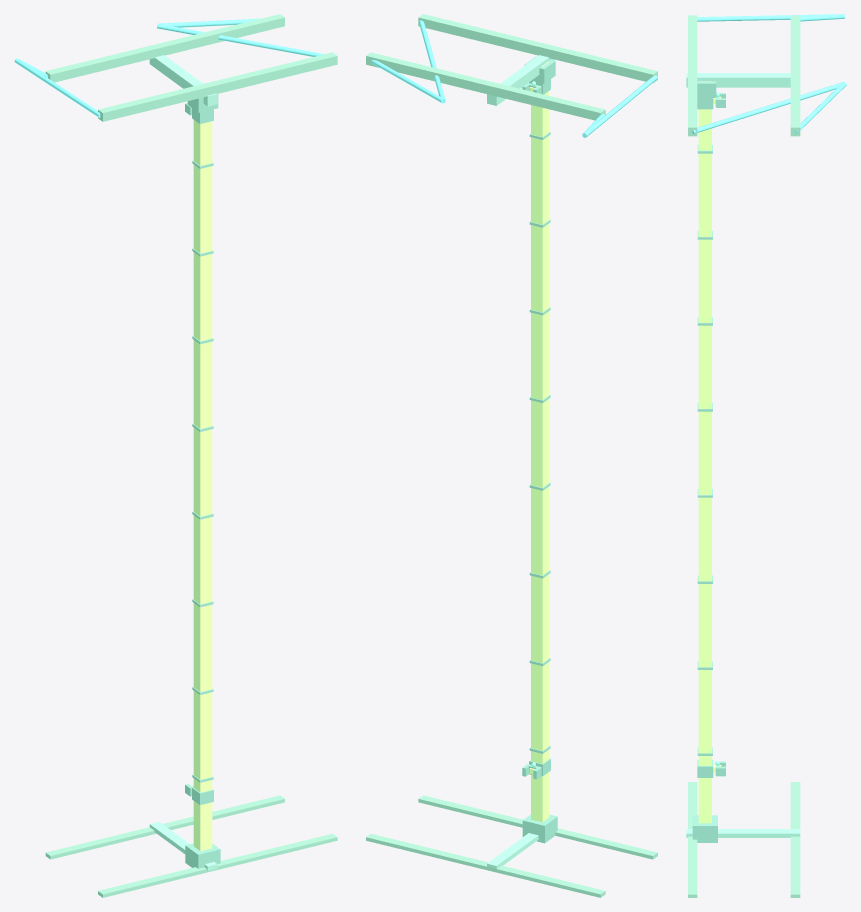
The model's file is racker.glb.
3 views of the same model, side by side, from view 1: azimuth 30°, elevation 25°; view 2: azimuth 150°, elevation 25°; view 3: azimuth 270°, elevation 25° (orthographic).
Size of the model in its own units: 8.77 by 26.85 by 5.07.
